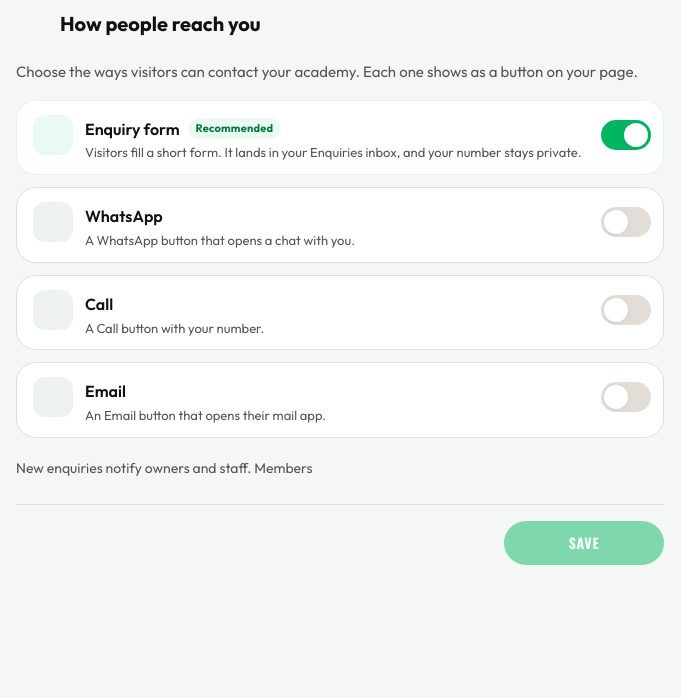
Test: ContactSettingsPage › sends only what changed, the number exactly as typed
The width and height of the screenshot is (681, 698).
Click the switch named "WhatsApp".
click(626, 222)  # box [601,200,651,244]
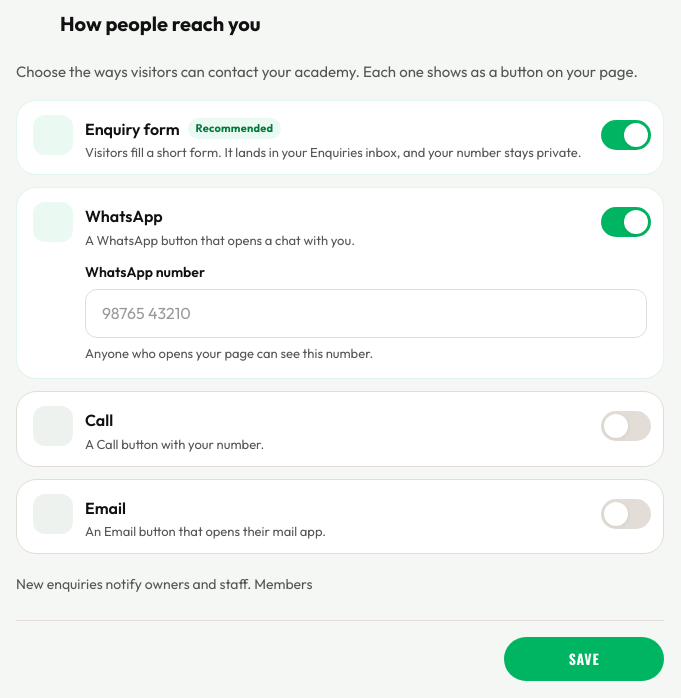
Type "098765 43210" into the field labelled "WhatsApp number".
click(366, 314); type("098765 43210")  # box [85,290,647,338]
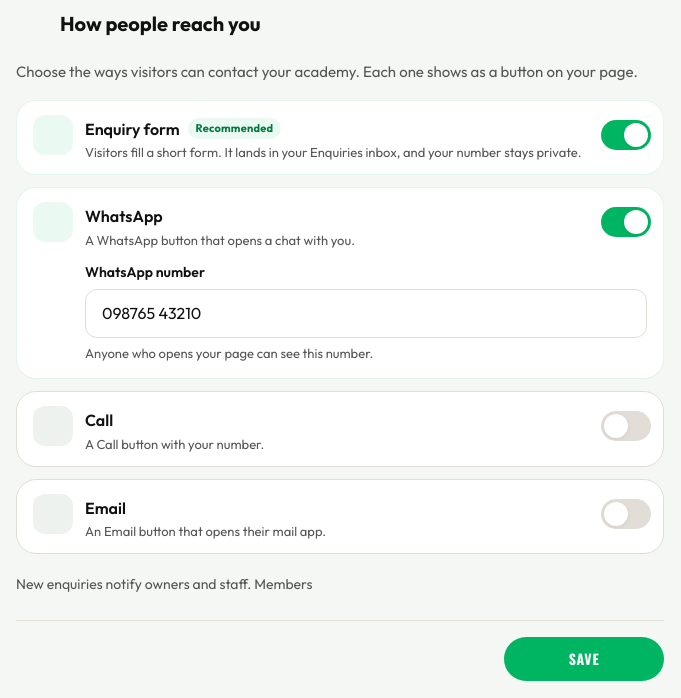
Click the button "Save".
click(584, 659)  # box [504,637,664,681]
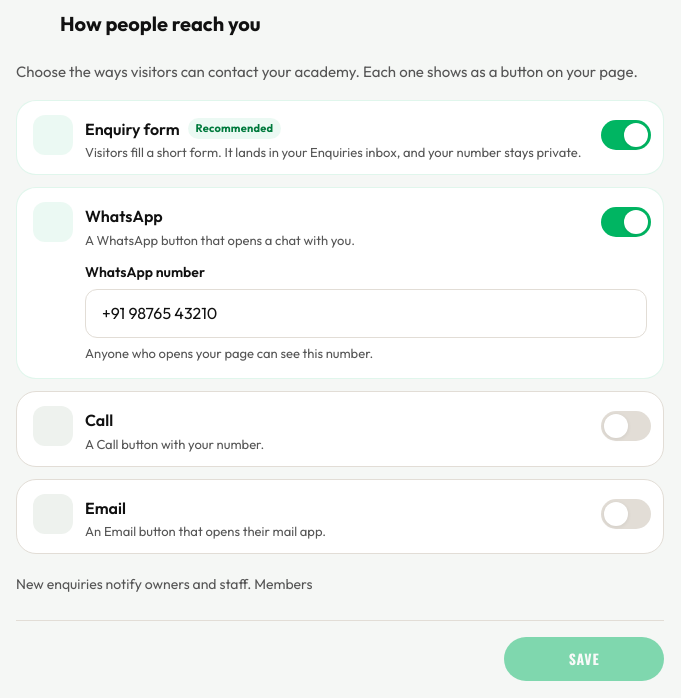
expect the field labelled "WhatsApp number" holds "+91 98765 43210": met, box [85,290,647,338]
